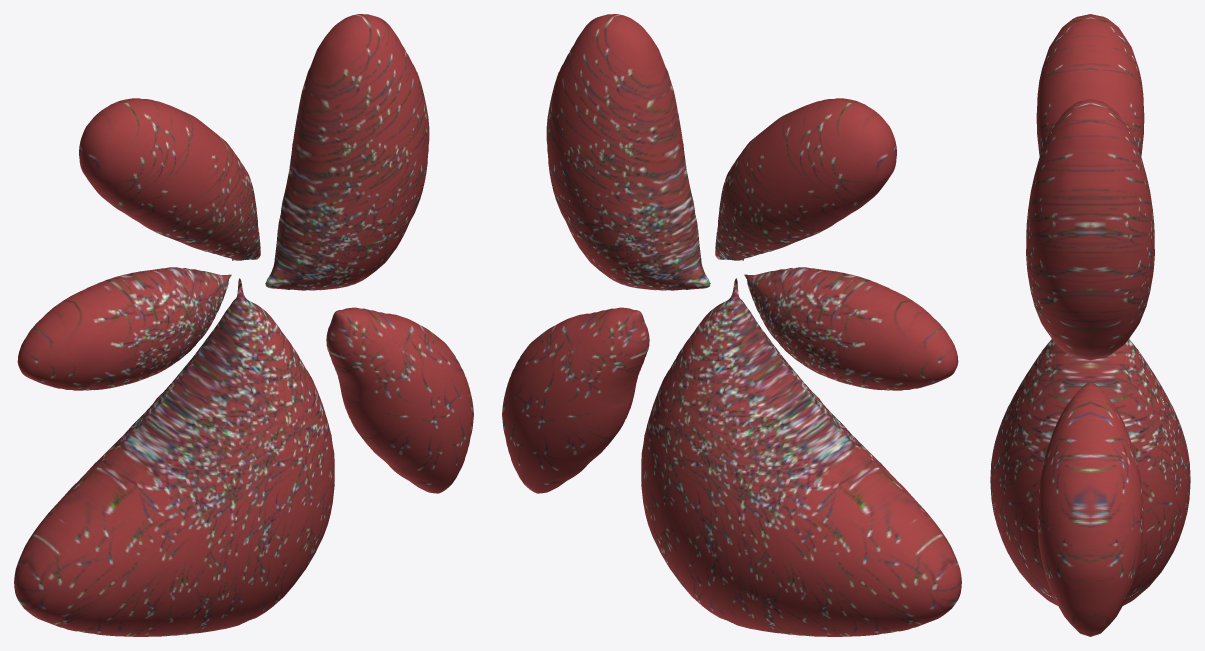
File: noise5.glb
3 renders of one model, left to right at view 1: azimuth 30°, elevation 25°; view 2: azimuth 150°, elevation 25°; view 3: azimuth 270°, elevation 25°, orthographic.
Bounding box in the file's own units: 4.06 × 4.92 × 1.56.
1 material, 1 textured.
